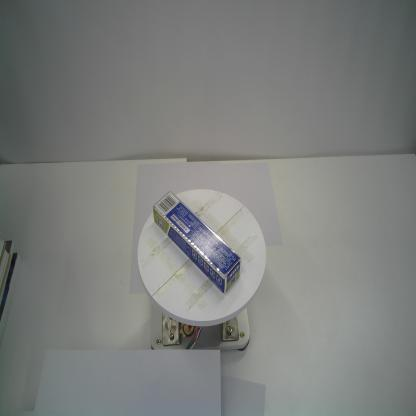Personal Hygiene: (152, 190, 242, 294)
